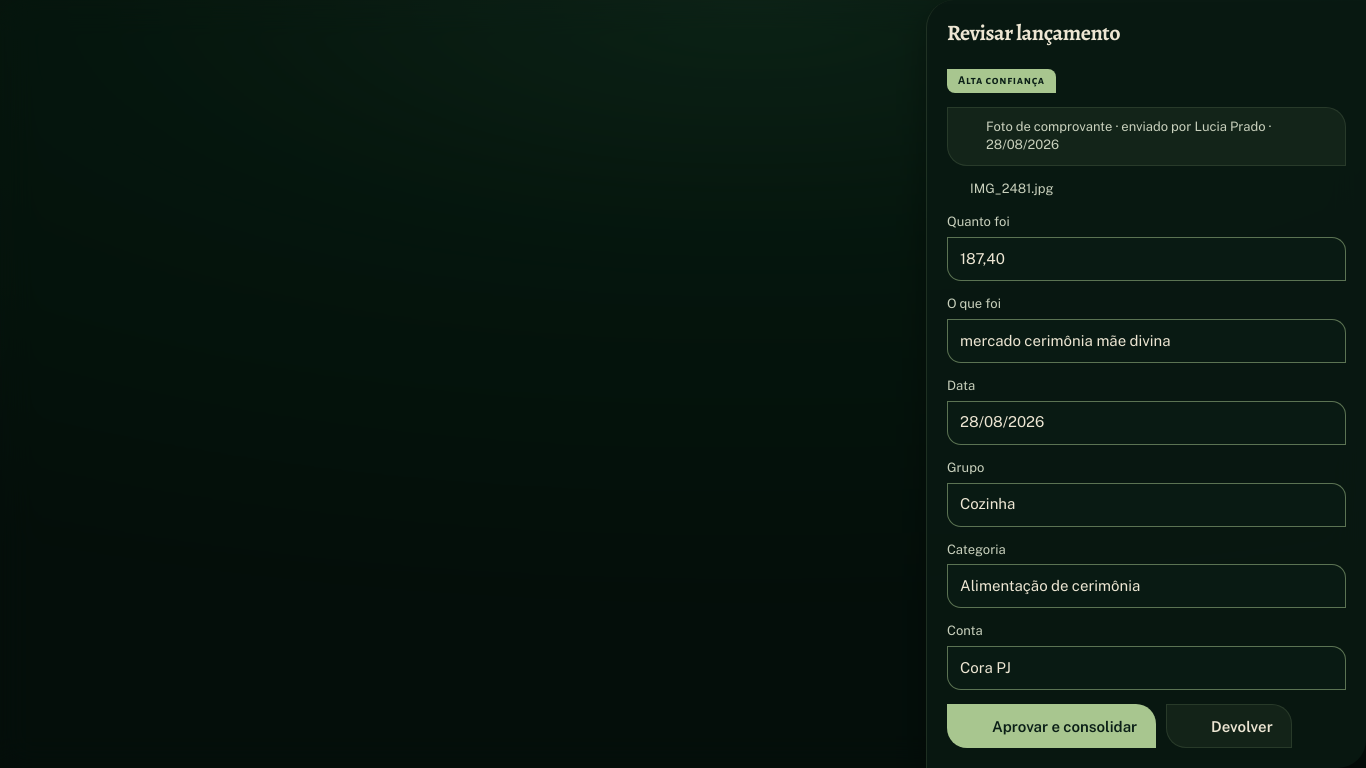
Test case: PainelDeRevisao: devolver a quem enviou › sem motivo — o botão Devolver fica desligado, com a orientação na tela e no title
Click the button "Devolver": x=1229, y=726 [1166, 704, 1292, 748]
(page scrolled)
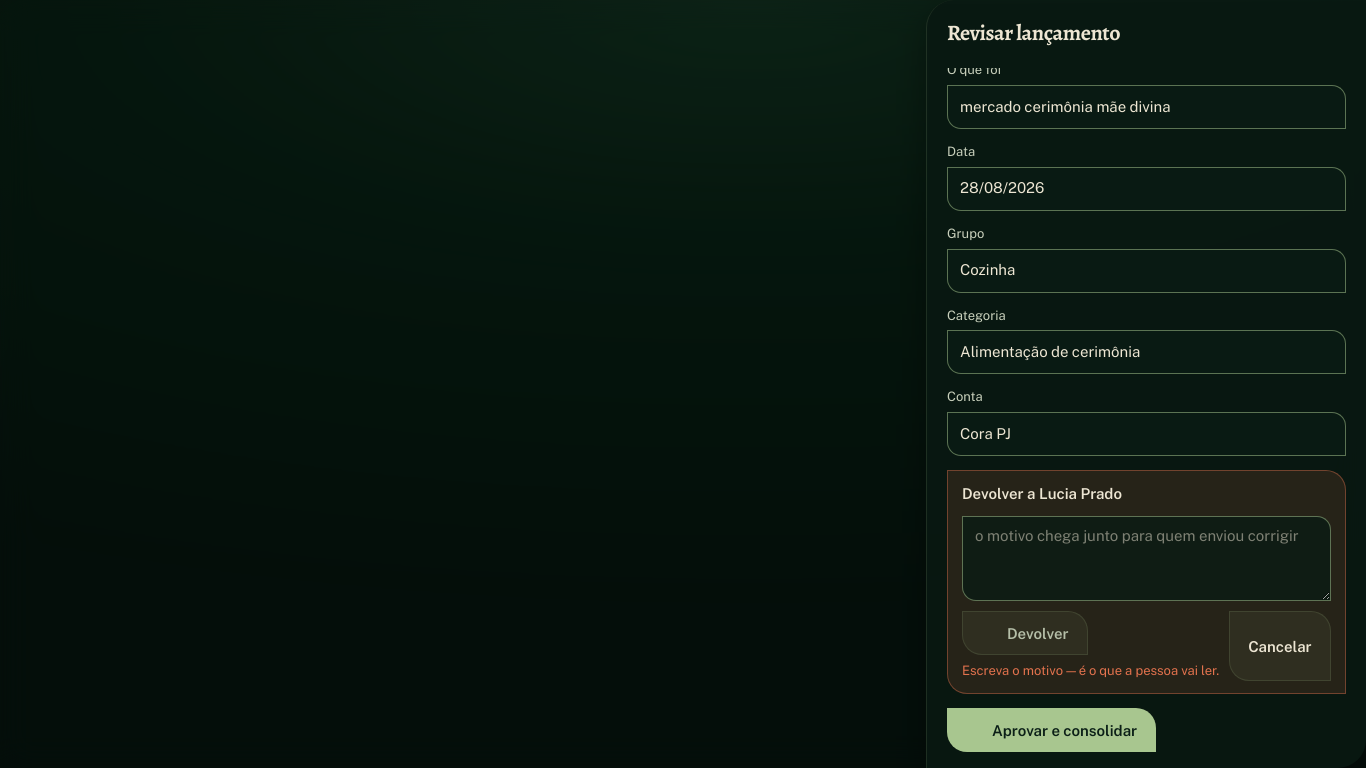
Now the button "Devolver" is disabled, box [962, 611, 1088, 655]
Now the text "Escreva o motivo — é o que a pessoa vai ler." is shown, box [962, 662, 1219, 681]
